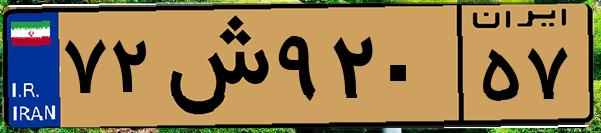0: (385, 28, 445, 110)
2: (330, 28, 385, 110), (110, 28, 158, 98)
5: (475, 38, 525, 113)
7: (57, 26, 110, 100), (525, 38, 570, 115)
9: (270, 28, 330, 110)
ش: (158, 12, 270, 120)
